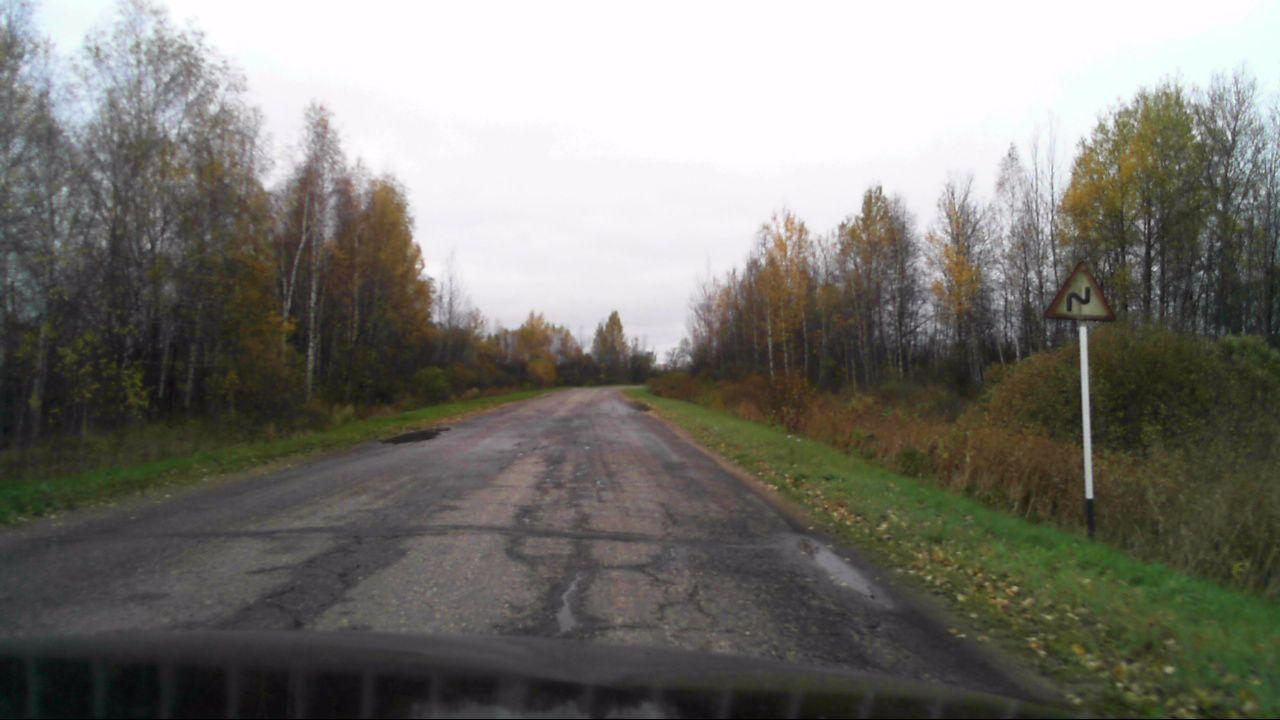1_12_1: (1046, 259, 1112, 322)
